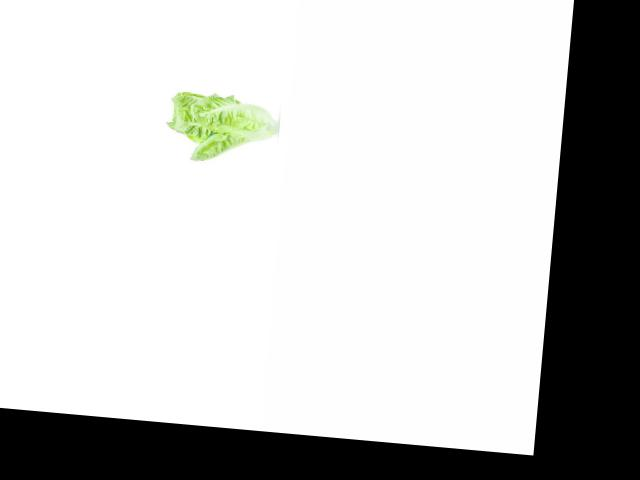lettuce: (162, 85, 277, 168)
